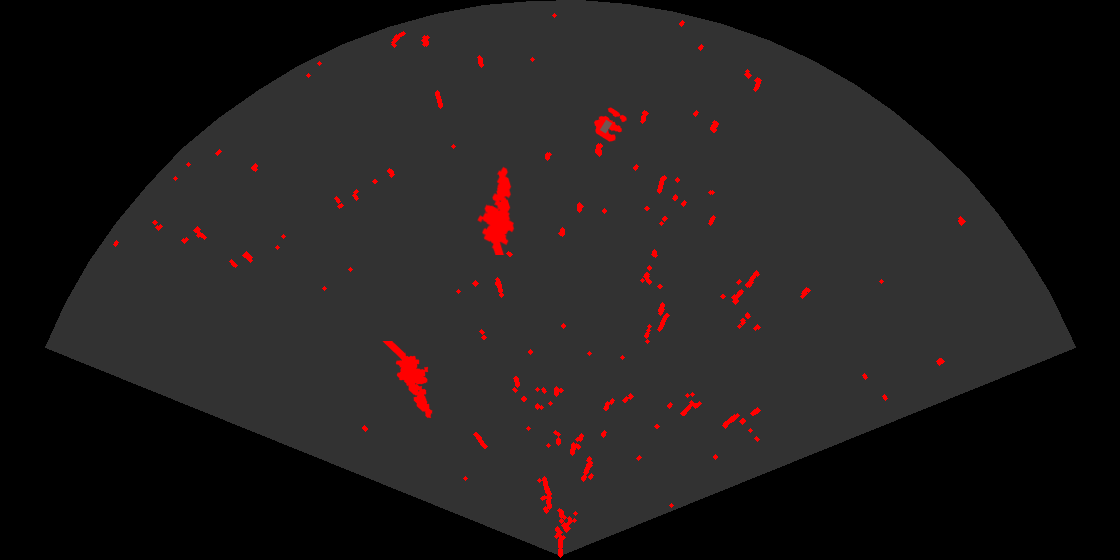ball: (592, 106, 628, 143)
frogman: (381, 341, 434, 420), (476, 165, 516, 255)
